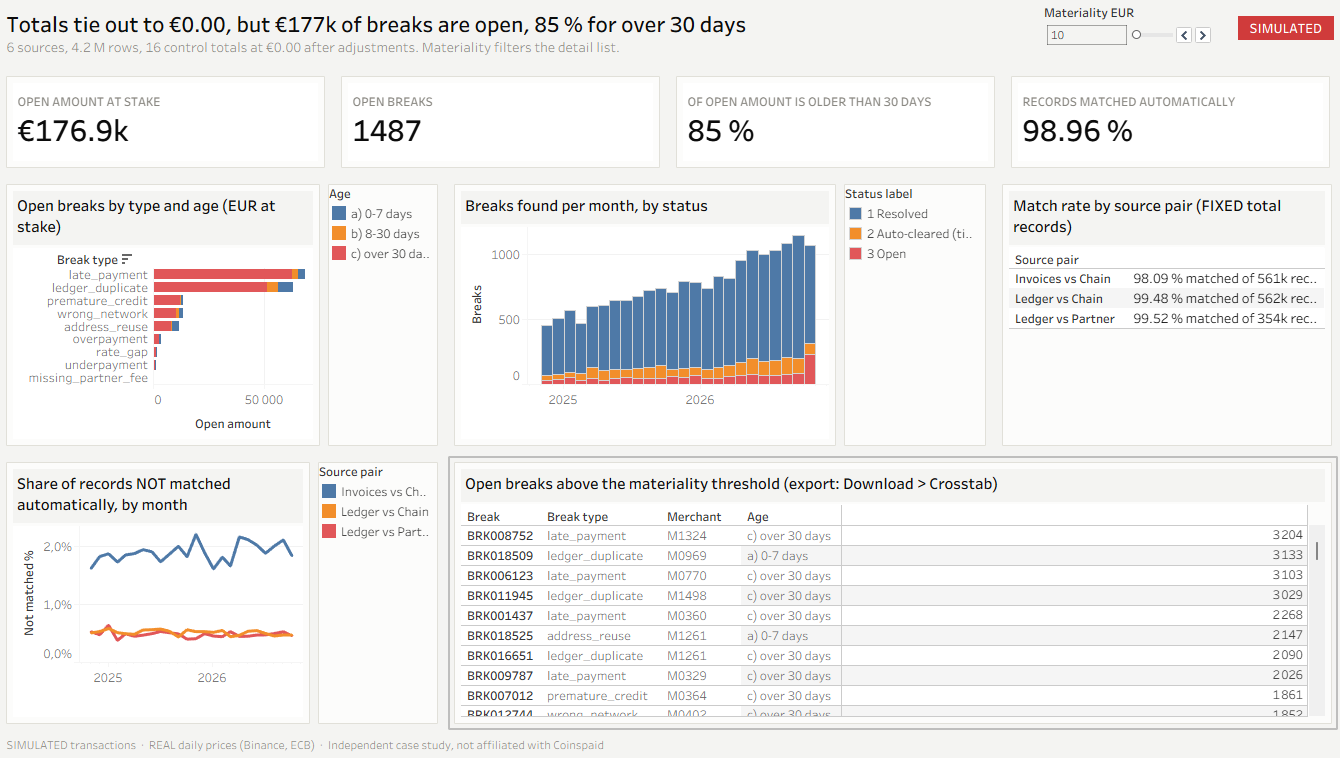

Layout of this report page (visuals, bound fields, positions):
{"tool":"tableau","page":{"name":"4 Reconciliation & data quality","canvas":[1366,768],"ordinal":3},"visuals":[{"type":"text","box":[16,8,1034,66]},{"type":"parameter","param":"[Parameters].[Materiality EUR]","box":[1058,12,170,56]},{"type":"text","box":[1250,22,100,28]},{"type":"worksheet","title":"KPI Open amount","mark":"Text","box":[16,80,327,100]},{"type":"worksheet","title":"KPI Open breaks","mark":"Text","box":[351,80,327,100]},{"type":"worksheet","title":"KPI Over 30","mark":"Text","box":[686,80,327,100]},{"type":"worksheet","title":"KPI Match rate","mark":"Text","box":[1021,80,327,100]},{"type":"worksheet","title":"Open breaks by type","mark":"Bar","rows":["break_type"],"cols":["Open amount"],"box":[16,188,322,270]},{"type":"legend","title":"Open breaks by type","param":"[federated.breaks].[none:Age:nk]","box":[338,188,118,270]},{"type":"worksheet","title":"Breaks per month","mark":"Bar","rows":["Breaks"],"cols":["break_date"],"box":[464,188,390,270]},{"type":"legend","title":"Breaks per month","param":"[federated.breaks].[none:Status label:nk]","box":[854,188,150,270]},{"type":"worksheet","title":"Match by source","mark":"Text","rows":["source_pair"],"box":[1012,188,338,270]},{"type":"worksheet","title":"Match rate trend","mark":"Line","rows":["Not matched %"],"cols":["date"],"box":[16,466,312,270]},{"type":"legend","title":"Match rate trend","param":"[federated.recon_daily].[none:source_pair:nk]","box":[328,466,128,270]},{"type":"worksheet","title":"Open breaks detail","mark":"Text","rows":["break_id","break_type","merchant_id","Age"],"box":[464,466,886,270]},{"type":"text","box":[16,742,1334,22]}]}

Visuals, with their boxes in screenshot pixels (x1, y1, x2, y2), scaled from the page's 1366x768 canvas onto the 1340x758 screenshot:
text: <bbox>16, 8, 1030, 73</bbox>
parameter: <bbox>1038, 12, 1205, 67</bbox>
text: <bbox>1226, 22, 1324, 49</bbox>
"KPI Open amount" worksheet (Text marks): <bbox>16, 79, 336, 178</bbox>
"KPI Open breaks" worksheet (Text marks): <bbox>344, 79, 665, 178</bbox>
"KPI Over 30" worksheet (Text marks): <bbox>673, 79, 994, 178</bbox>
"KPI Match rate" worksheet (Text marks): <bbox>1002, 79, 1322, 178</bbox>
"Open breaks by type" worksheet (Bar marks): <bbox>16, 186, 332, 452</bbox>
"Open breaks by type" legend: <bbox>332, 186, 447, 452</bbox>
"Breaks per month" worksheet (Bar marks): <bbox>455, 186, 838, 452</bbox>
"Breaks per month" legend: <bbox>838, 186, 985, 452</bbox>
"Match by source" worksheet (Text marks): <bbox>993, 186, 1324, 452</bbox>
"Match rate trend" worksheet (Line marks): <bbox>16, 460, 322, 726</bbox>
"Match rate trend" legend: <bbox>322, 460, 447, 726</bbox>
"Open breaks detail" worksheet (Text marks): <bbox>455, 460, 1324, 726</bbox>
text: <bbox>16, 732, 1324, 754</bbox>
